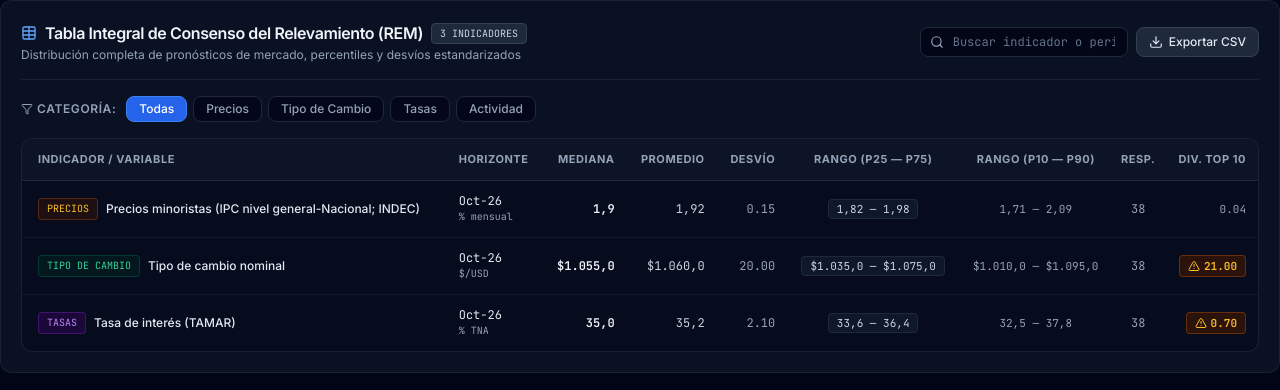
Scenario: RemTable Component › filters rows when user types in search input
Expected: the text "Precios minoristas (IPC nivel general-Nacional; INDEC)" is shown, [106, 200, 420, 216]
In the field with test id "rem-table-search-input": (1024, 42) [920, 27, 1128, 57], type "TAMAR"
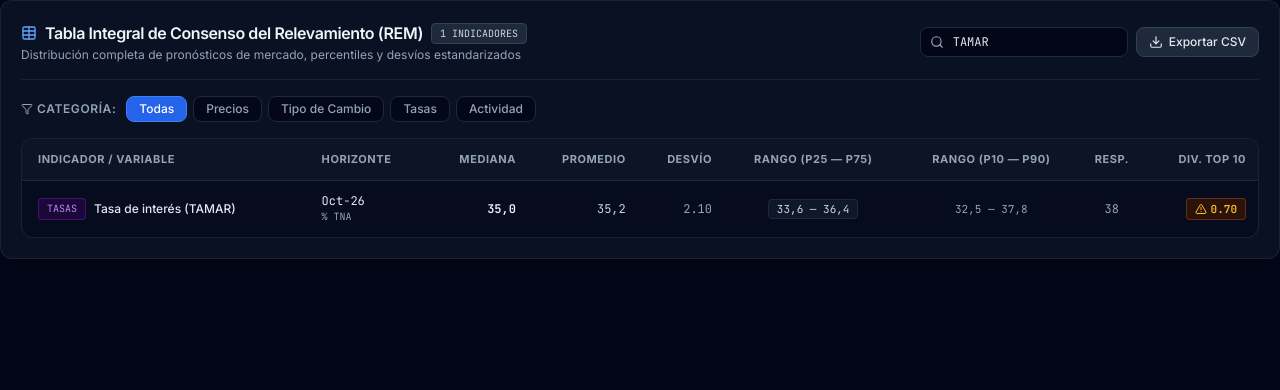
Expected: the text "Tasa de interés (TAMAR)" is shown, [94, 200, 236, 216]
Expected: the text "Tipo de cambio nominal" is gone
